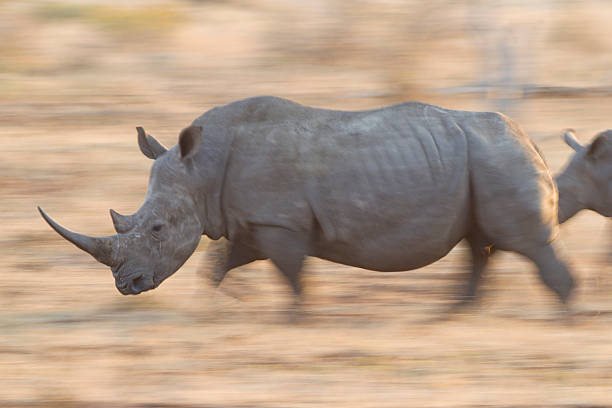rhino: (28, 112, 232, 302)
